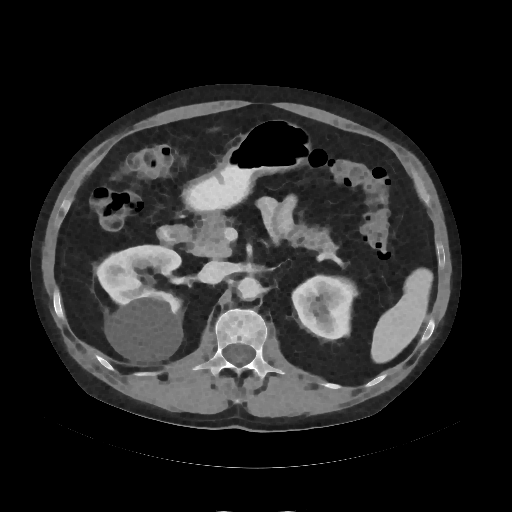Lesion: (103, 292, 187, 372)
